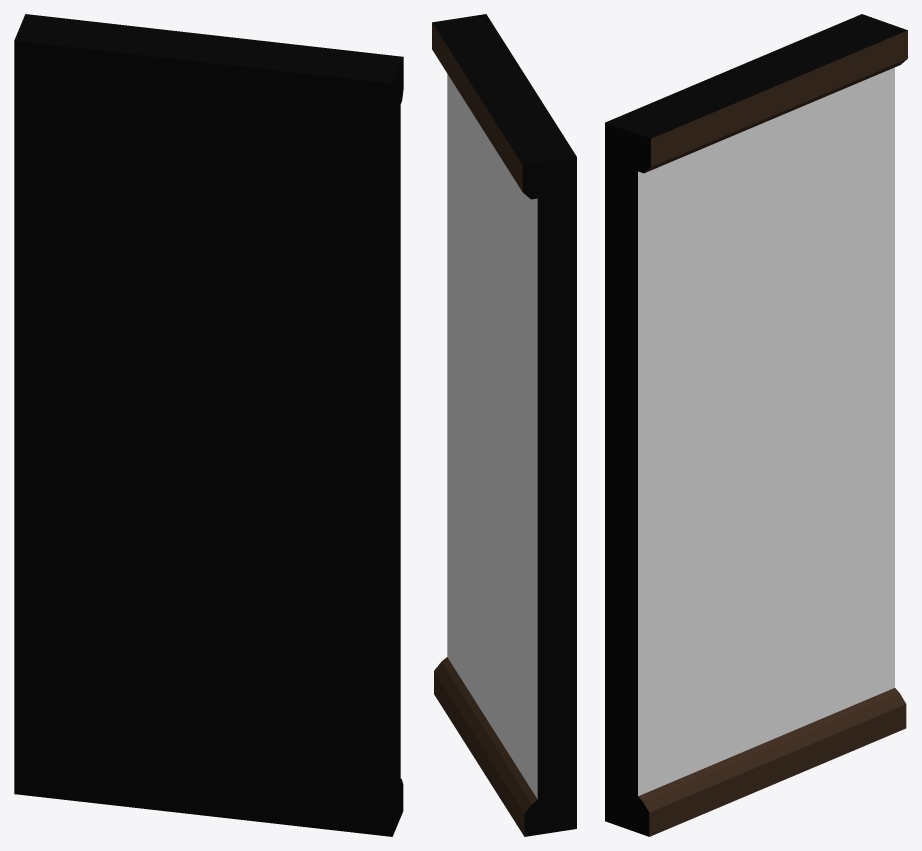
Rendered from Wall_02_corner.fbx.
The picture shows the model from 3 angles, left to right: view 1: azimuth 30°, elevation 25°; view 2: azimuth 150°, elevation 25°; view 3: azimuth 270°, elevation 25°; orthographic projection. The views are drawn at different scales.
Visible parts, largest first — view 1: Cube.147; view 2: Cube.147; view 3: Cube.147.
Part boxes in pixels (bbox=[...]): Cube.147: bbox=[14, 14, 403, 836]; Cube.147: bbox=[432, 14, 576, 836]; Cube.147: bbox=[605, 14, 907, 836].
Size of the model in its own units: 1.18 by 1.15 by 3.
